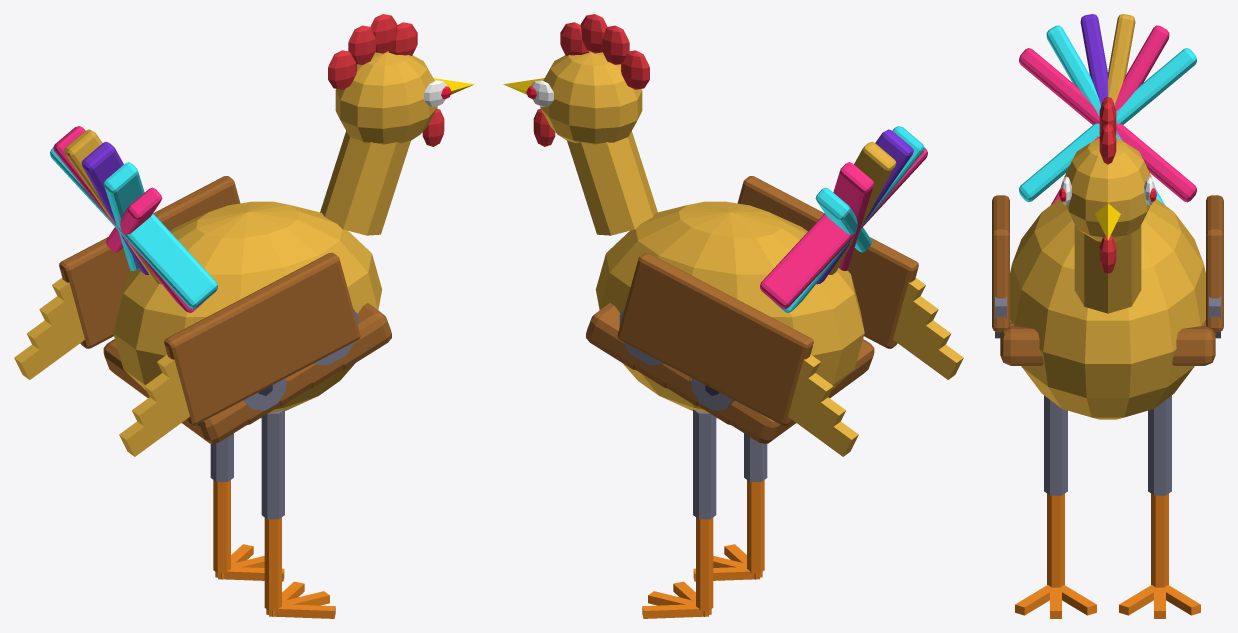
Rendered from coq.glb.
3 views of the same model, side by side, from view 1: azimuth 30°, elevation 25°; view 2: azimuth 150°, elevation 25°; view 3: azimuth 270°, elevation 25° (orthographic).
Visible parts, largest first — view 1: p_sph.253, p_rbox.075, p_sph.254, p_rbox.076, p_cyl.030, p_rbox.077, p_cyl.018, p_rbox.070, p_rbox.081, p_box.820, p_cyl.021, p_cyl.019 (+18 smaller); view 2: p_sph.253, p_rbox.076, p_sph.254, p_rbox.075, p_cyl.030, p_rbox.082, p_cyl.020, p_rbox.070, p_rbox.078, p_box.816, p_cyl.021, p_cyl.019 (+18 smaller); view 3: p_sph.253, p_sph.254, p_cyl.030, p_rbox.077, p_rbox.082, p_rbox.074, p_rbox.076, p_rbox.075, p_cyl.020, p_cyl.018, p_rbox.081, p_cyl.021 (+14 smaller).
Boxes of the visible parts, left/top/right/bottom form: p_sph.253: left=113, top=201, right=382, bottom=418; p_rbox.075: left=164, top=252, right=360, bottom=425; p_sph.254: left=335, top=51, right=437, bottom=144; p_rbox.076: left=59, top=176, right=240, bottom=348; p_cyl.030: left=320, top=131, right=410, bottom=235; p_rbox.077: left=50, top=148, right=217, bottom=308; p_cyl.018: left=261, top=409, right=284, bottom=519; p_rbox.070: left=103, top=339, right=260, bottom=443; p_rbox.081: left=103, top=162, right=144, bottom=270; p_box.820: left=14, top=320, right=84, bottom=379; p_cyl.021: left=213, top=480, right=230, bottom=573; p_cyl.019: left=264, top=517, right=281, bottom=610; p_sph.253: left=595, top=201, right=864, bottom=418; p_rbox.076: left=617, top=252, right=813, bottom=425; p_sph.254: left=540, top=51, right=642, bottom=144; p_rbox.075: left=737, top=176, right=918, bottom=348; p_cyl.030: left=567, top=131, right=657, bottom=235; p_rbox.082: left=760, top=148, right=927, bottom=308; p_cyl.020: left=693, top=409, right=716, bottom=519; p_rbox.070: left=717, top=339, right=874, bottom=443; p_rbox.078: left=833, top=162, right=874, bottom=270; p_box.816: left=893, top=320, right=963, bottom=379; p_cyl.021: left=696, top=517, right=713, bottom=610; p_cyl.019: left=747, top=480, right=764, bottom=573; p_sph.253: left=1010, top=198, right=1205, bottom=419; p_sph.254: left=1064, top=138, right=1151, bottom=241; p_cyl.030: left=1074, top=225, right=1141, bottom=313; p_rbox.077: left=1019, top=48, right=1196, bottom=202; p_rbox.082: left=1019, top=48, right=1196, bottom=202; p_rbox.074: left=1000, top=325, right=1215, bottom=365; p_rbox.076: left=1206, top=195, right=1223, bottom=332; p_rbox.075: left=992, top=195, right=1009, bottom=332; p_cyl.020: left=1148, top=395, right=1171, bottom=495; p_cyl.018: left=1044, top=395, right=1067, bottom=495; p_rbox.081: left=1046, top=25, right=1165, bottom=205; p_cyl.021: left=1151, top=493, right=1168, bottom=587.
Size of the model in its own units: 3.2 by 4.15 by 1.56.
